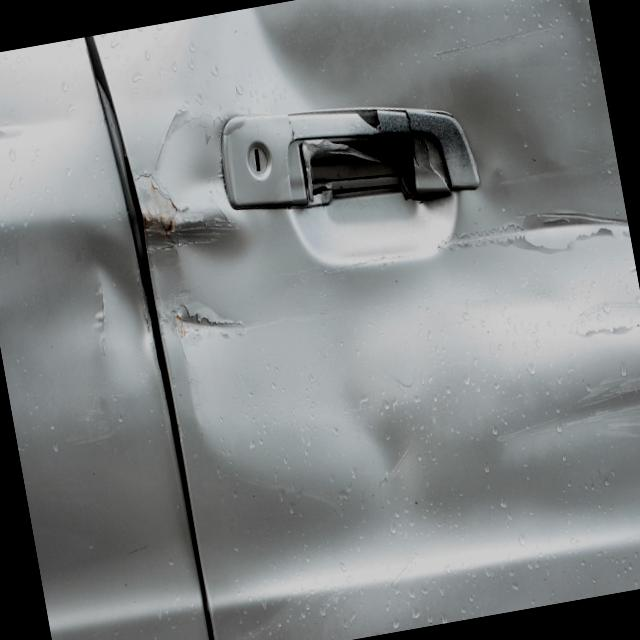Cabossage: (131, 78, 345, 497), (0, 208, 153, 428)
Rayure: (499, 183, 638, 302), (127, 157, 241, 275), (142, 284, 256, 372), (71, 260, 126, 380)
